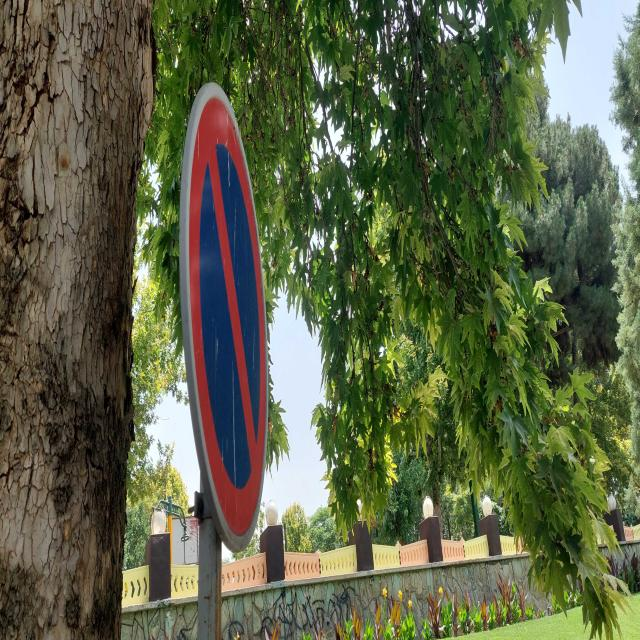forb_stopping: (181, 76, 268, 560)
